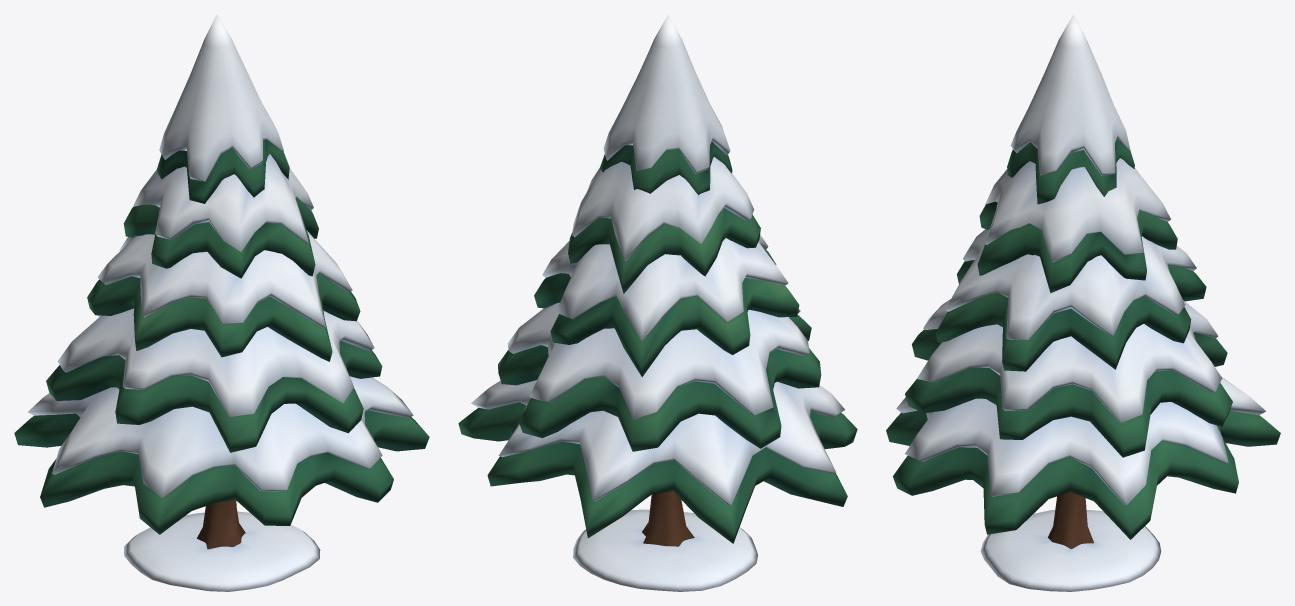
The model's file is tree_pine_snow.glb.
The picture shows the model from 3 angles, left to right: view 1: azimuth 30°, elevation 25°; view 2: azimuth 150°, elevation 25°; view 3: azimuth 270°, elevation 25°; orthographic projection.
Parts seen in each view (by area): view 1: tree_pine_snow; view 2: tree_pine_snow; view 3: tree_pine_snow.
Part boxes in pixels (left/top/right/bottom): tree_pine_snow: left=14, top=14, right=429, bottom=591; tree_pine_snow: left=458, top=14, right=857, bottom=591; tree_pine_snow: left=886, top=14, right=1280, bottom=591.
Size of the model in its own units: 6.01 by 8.64 by 5.76.
